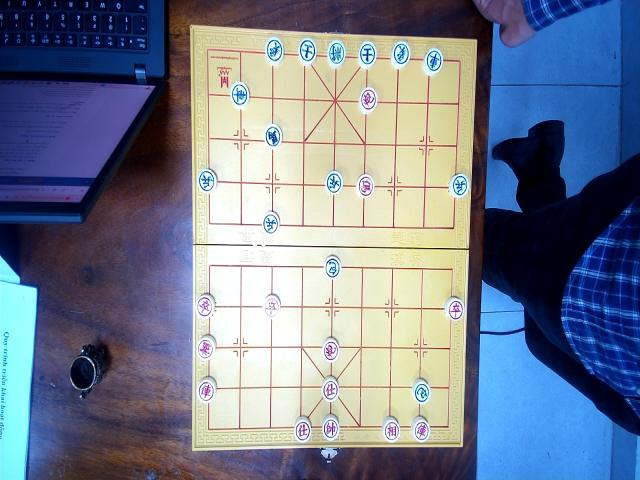piece: (422, 47, 443, 76), (448, 172, 470, 199), (265, 36, 285, 65), (326, 39, 346, 68), (390, 42, 410, 70), (230, 81, 250, 109), (444, 295, 464, 322), (197, 377, 217, 404), (411, 378, 431, 405), (358, 87, 378, 114), (358, 40, 377, 68), (195, 294, 215, 320), (196, 335, 216, 361), (293, 416, 312, 443), (381, 416, 400, 443), (411, 416, 430, 443), (298, 38, 316, 66), (197, 168, 217, 193), (322, 414, 340, 441), (322, 337, 340, 364), (264, 123, 282, 150), (325, 170, 343, 196), (356, 172, 374, 198), (321, 377, 339, 402), (324, 255, 342, 280), (262, 212, 280, 236), (264, 294, 280, 318)
